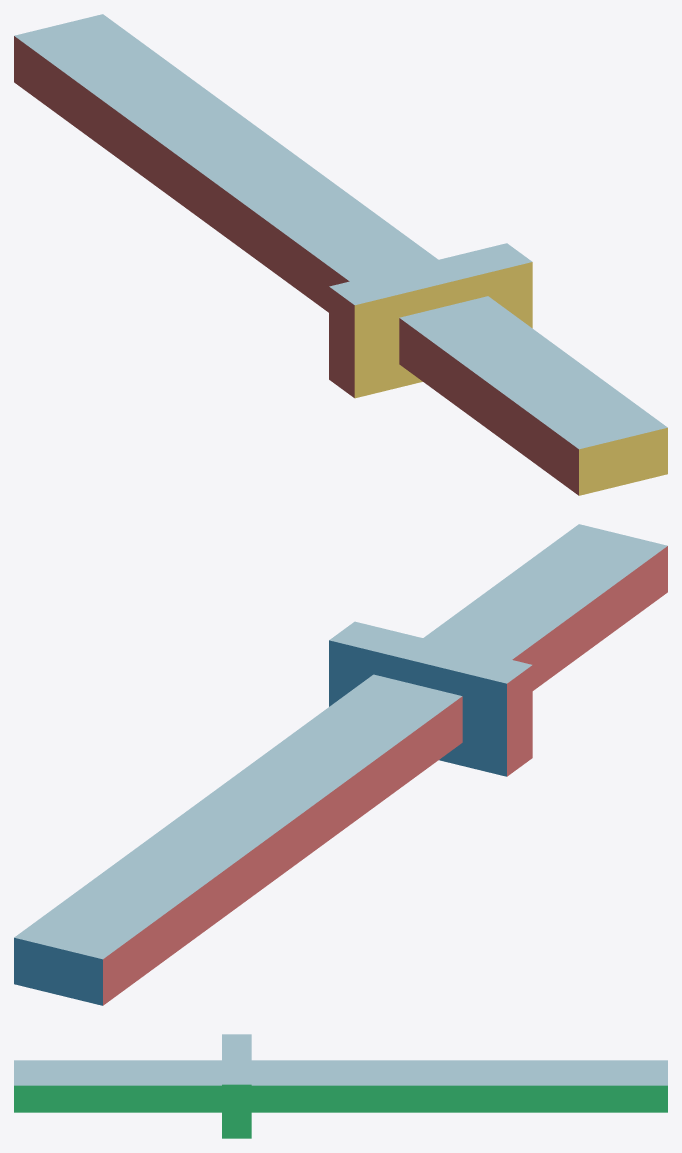
Rendered from TestSword.glb.
3 renders of one model, top to bottom at view 1: azimuth 30°, elevation 25°; view 2: azimuth 150°, elevation 25°; view 3: azimuth 270°, elevation 25°, orthographic. The views are drawn at different scales.
Parts seen in each view (by area): view 1: cube (×2); view 2: cube (×2); view 3: cube (×2).
Boxes of the visible parts, x1,y1,x2,y2 form: cube (×2): (14,14,667,495); cube (×2): (14,524,667,1005); cube (×2): (14,1034,667,1138).
Bounding box in the file's own units: 0.25 × 0.125 × 1.38.
Materials: 1 (1 with a texture image).
